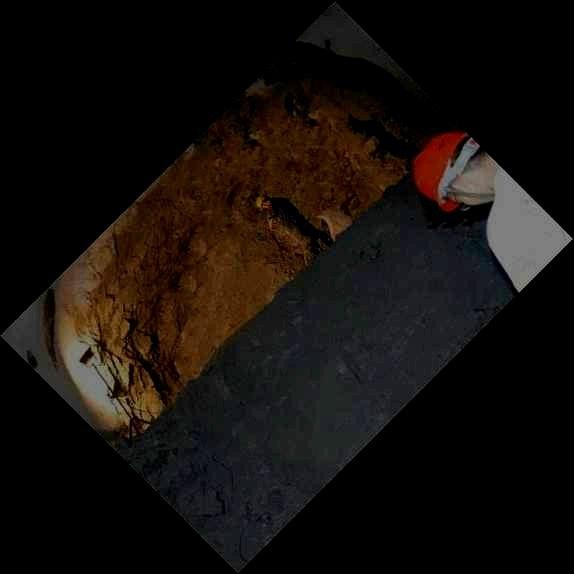helmet: (410, 129, 496, 214), (255, 194, 273, 212)
